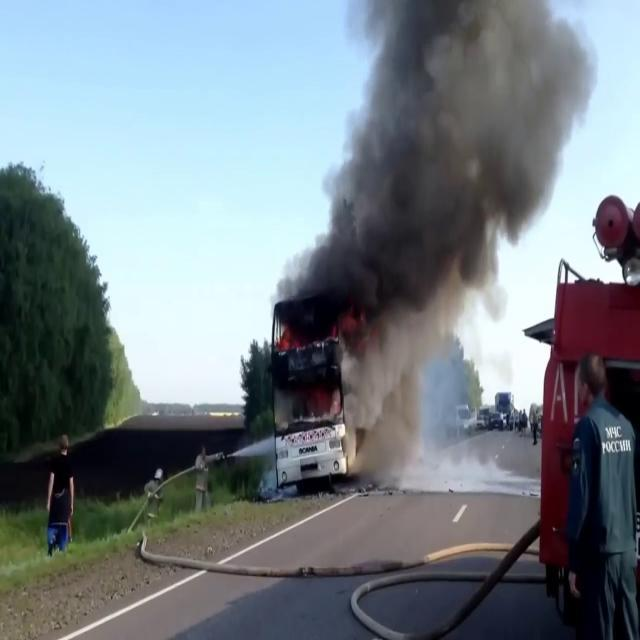Smoke: (287, 0, 601, 374)
